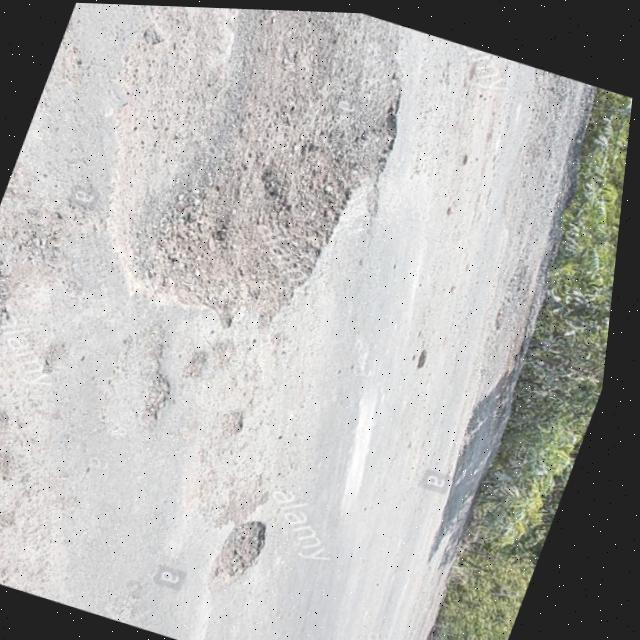Pothole: (84, 3, 436, 360), (213, 505, 289, 593)
